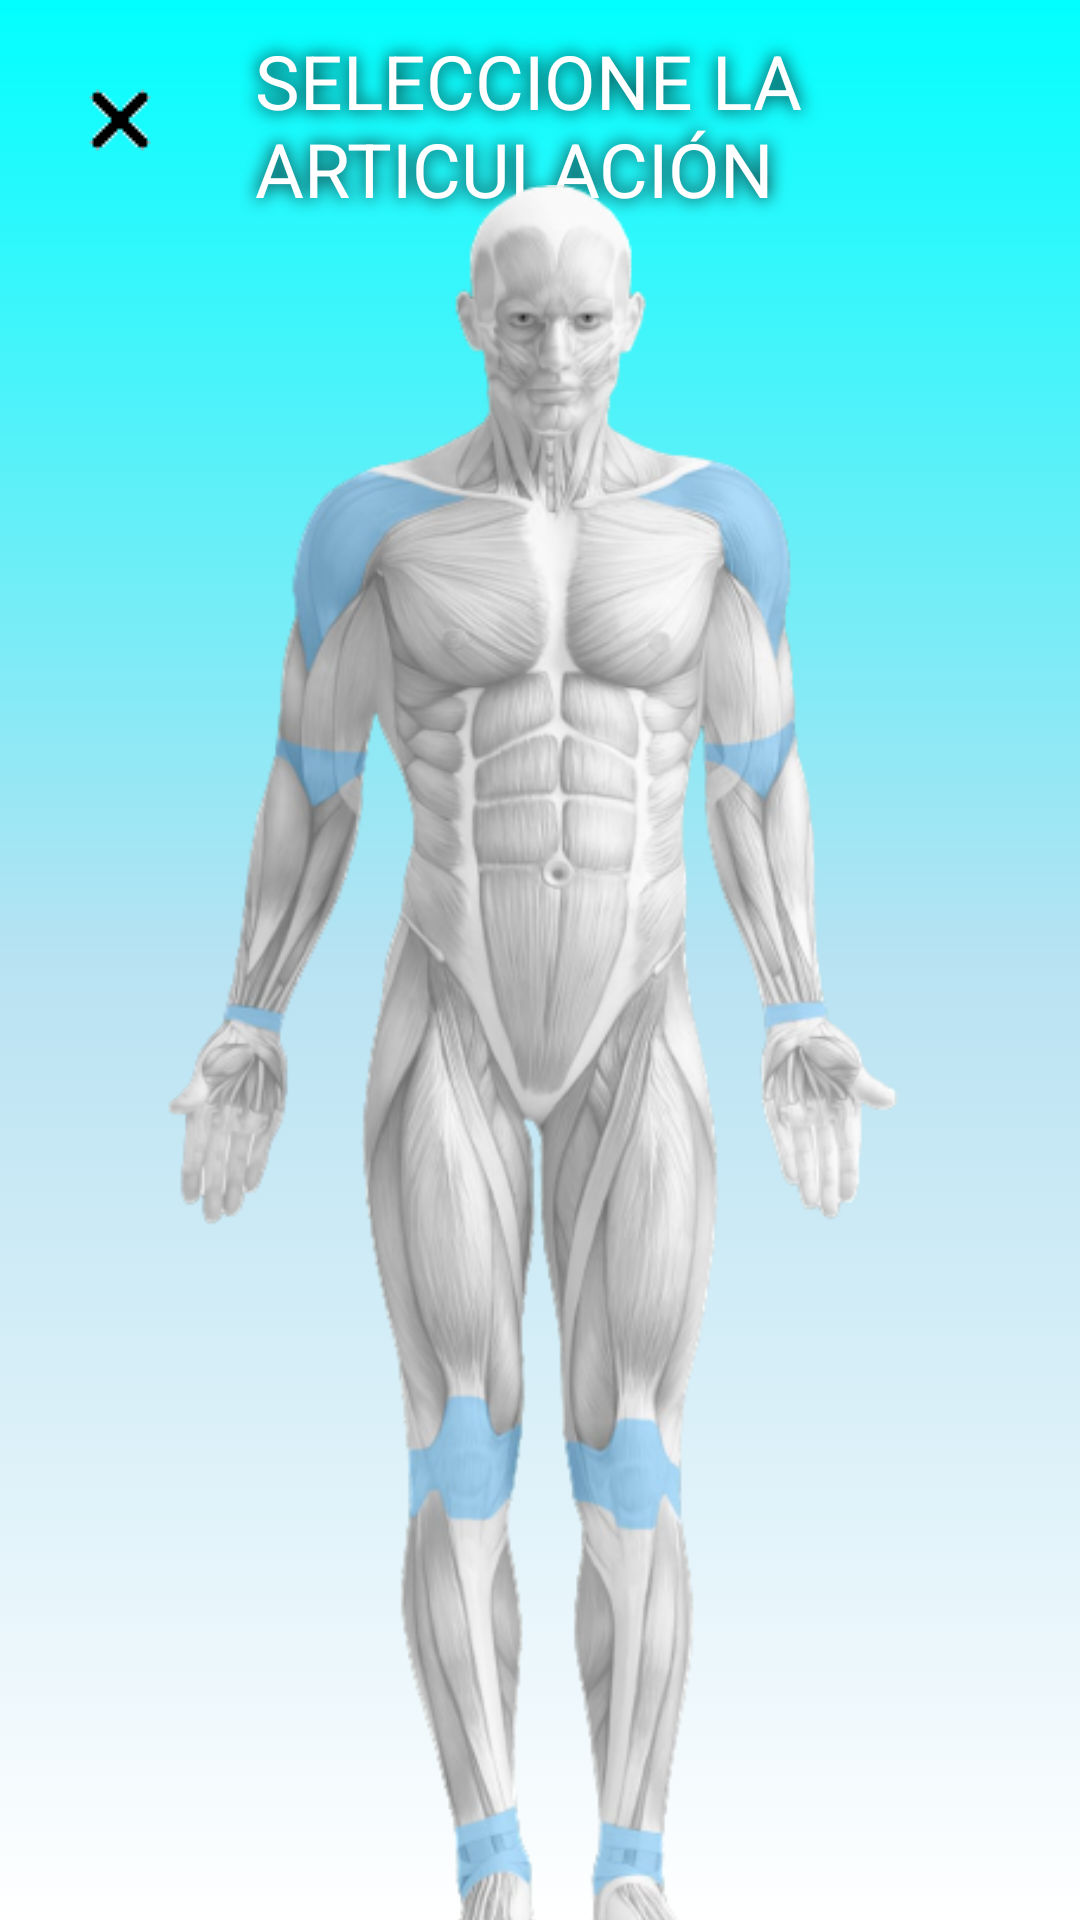

Named icons in this screenshot (1080px×1920px) and their bounding boxes, (x1, y1, x2, y2):
Return Button: (89, 89, 151, 151)
